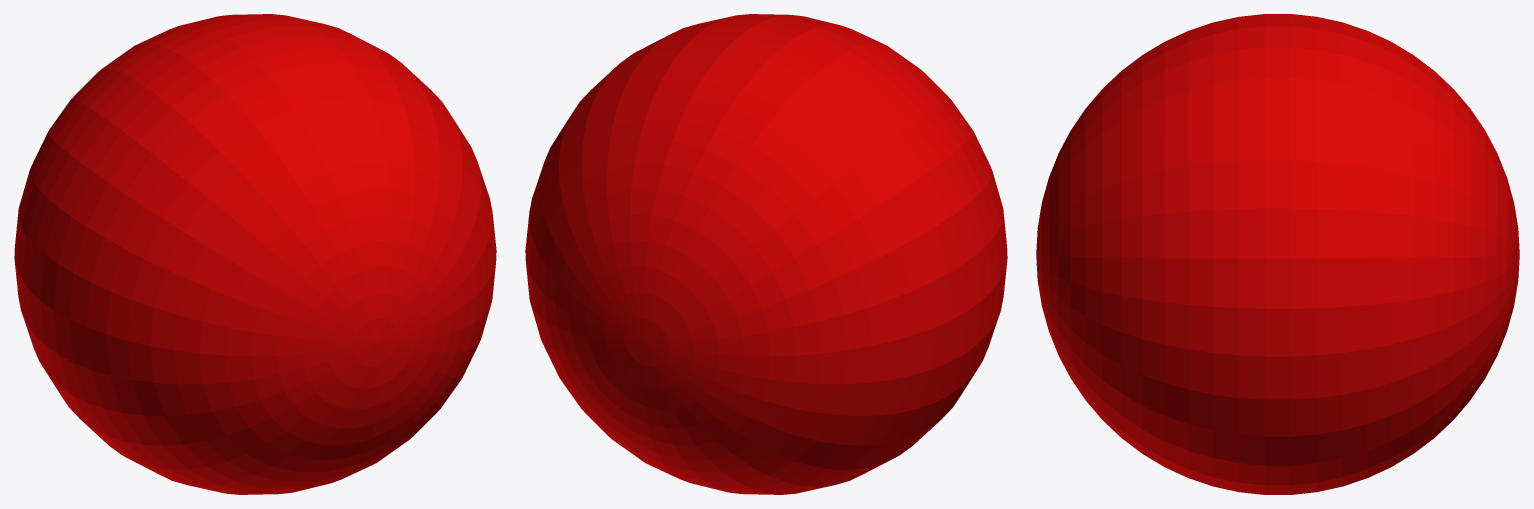
The model's file is Zinc Oxide.glb.
3 views of the same model, side by side, from view 1: azimuth 30°, elevation 25°; view 2: azimuth 150°, elevation 25°; view 3: azimuth 270°, elevation 25° (orthographic).
Visible parts, largest first — view 1: world; view 2: world; view 3: world.
Boxes of the visible parts, left/top/right/bottom form: world: left=14, top=14, right=496, bottom=494; world: left=525, top=14, right=1007, bottom=494; world: left=1036, top=14, right=1519, bottom=494.
Size of the model in its own units: 1.2 by 1.19 by 1.2.
